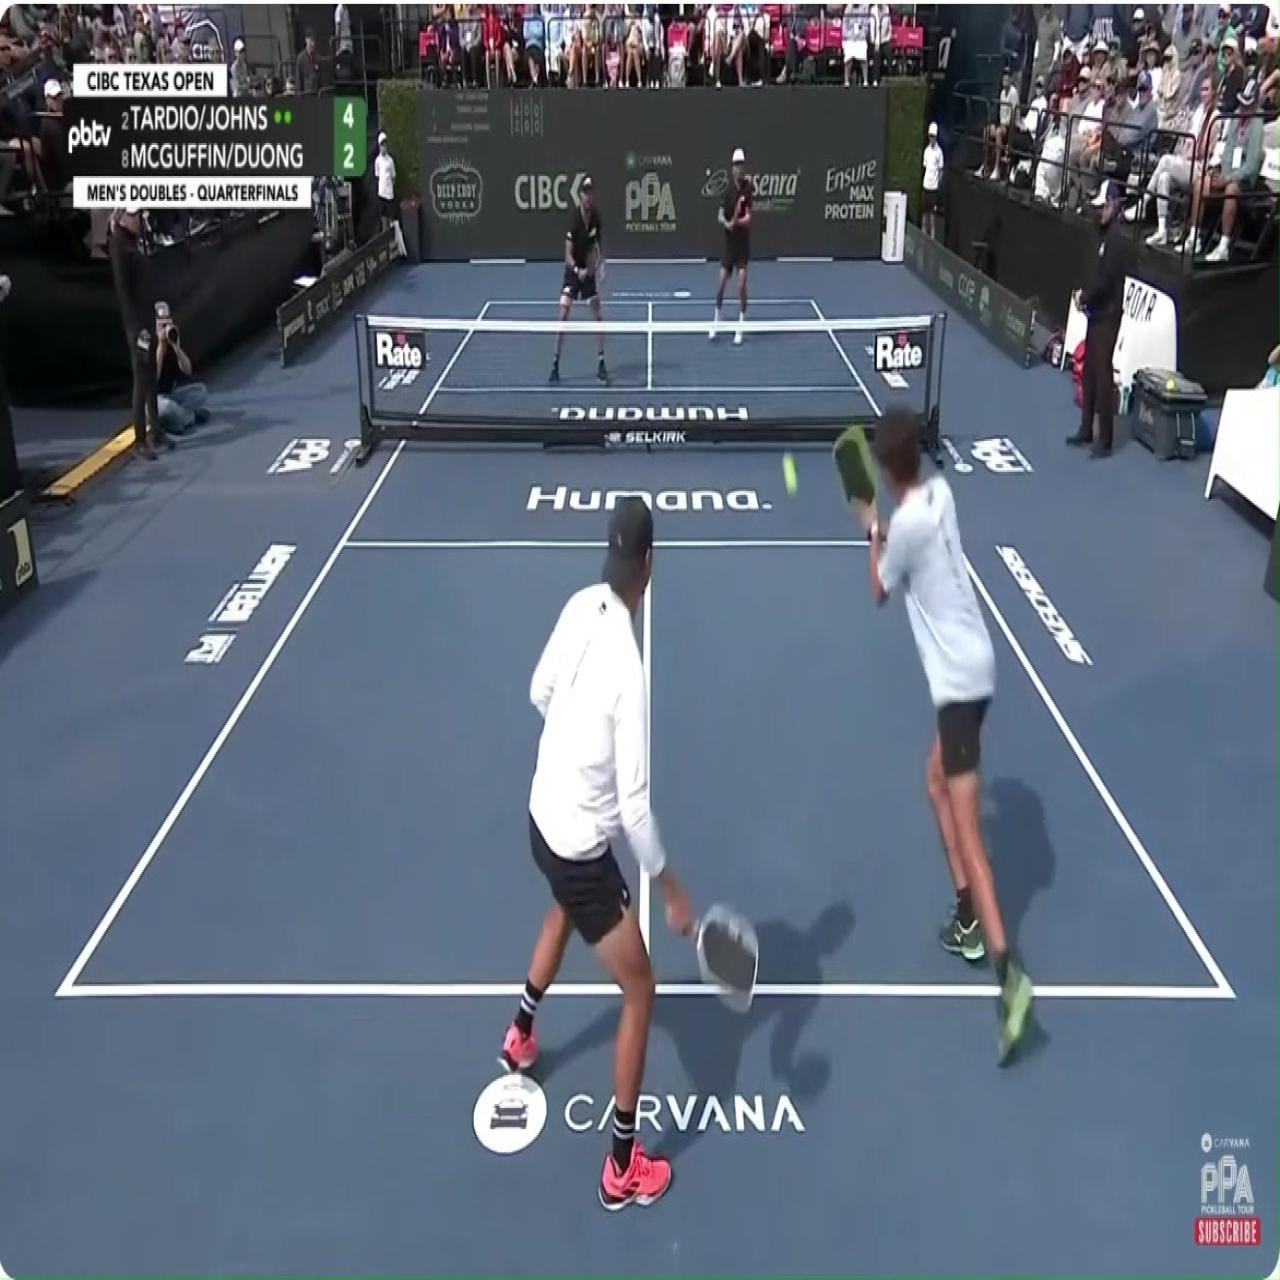pickleball: (782, 452, 797, 495)
